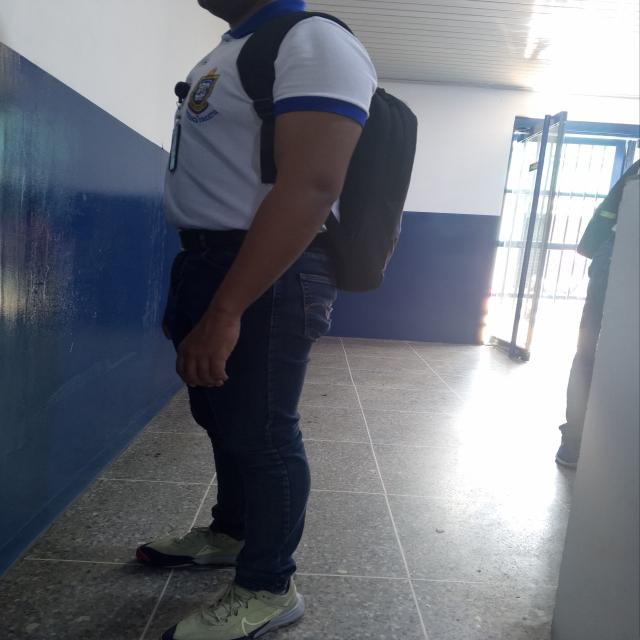carnet: (168, 126, 182, 168)
pantalon_oscuro: (162, 243, 338, 595)
uniforme_superior: (161, 0, 371, 232)
